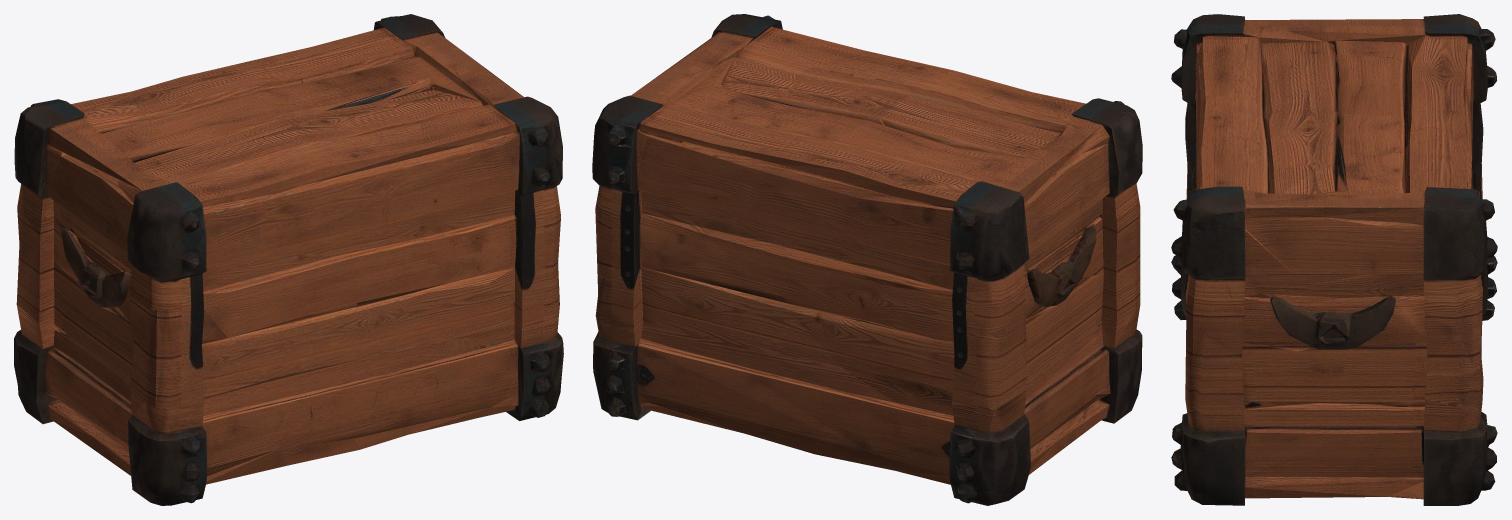
File: crate.glb
The picture shows the model from 3 angles, left to right: view 1: azimuth 30°, elevation 25°; view 2: azimuth 150°, elevation 25°; view 3: azimuth 270°, elevation 25°; orthographic projection.
Size of the model in its own units: 0.8059 by 0.55 by 0.546.
Materials: 1 (1 with a texture image).
